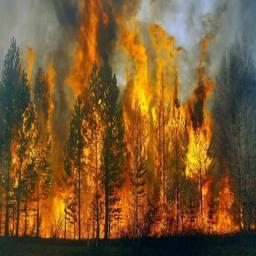Large fire: (0, 0, 256, 240)
